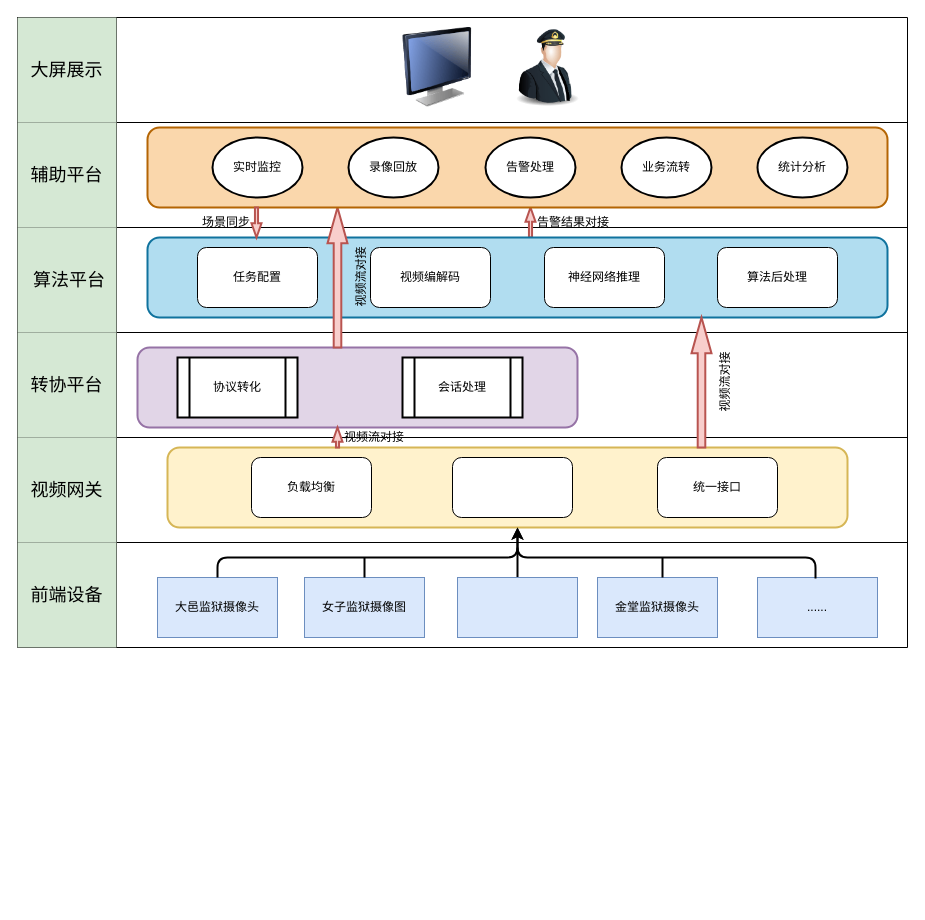
This 925x920 diagram has some shape labels left out. Each missing label, with the centre of its shape:
转封装: the point at 512,487
邛崃监狱摄像头: the point at 517,607
